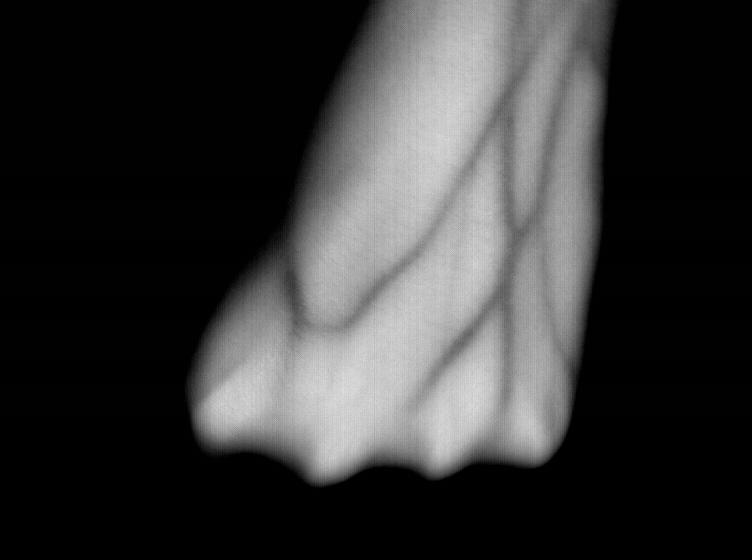Vein: (460, 42, 577, 347)
